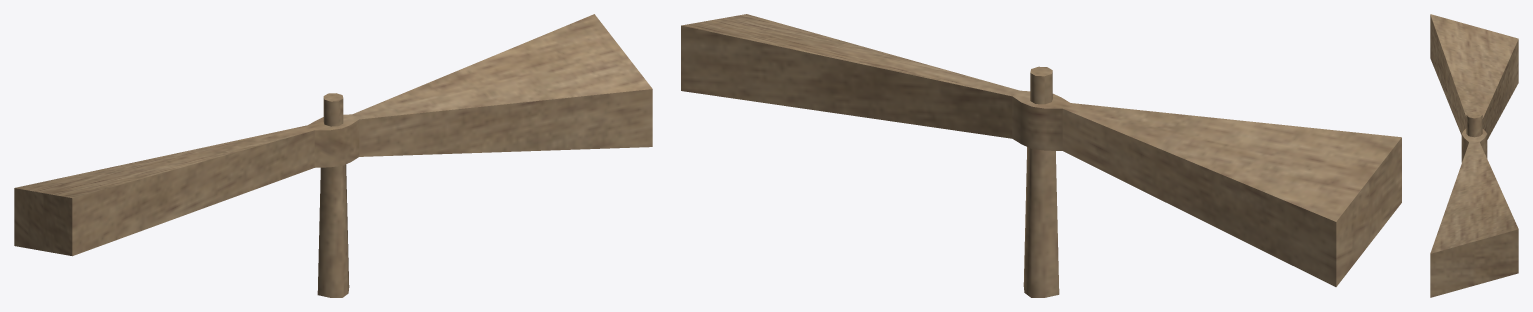
The model's file is take_head.FBX.
The picture shows the model from 3 angles, left to right: view 1: azimuth 30°, elevation 25°; view 2: azimuth 150°, elevation 25°; view 3: azimuth 270°, elevation 25°; orthographic projection. The views are drawn at different scales.
Parts seen in each view (by area): view 1: オブジェクト001; view 2: オブジェクト001; view 3: オブジェクト001.
Part boxes in pixels (<box>): オブジェクト001: <box>14,14,652,297</box>; オブジェクト001: <box>681,14,1401,297</box>; オブジェクト001: <box>1430,14,1518,297</box>.
Size of the model in its own units: 37.47 by 11.96 by 6.52.
Materials: 1 (1 with a texture image).
